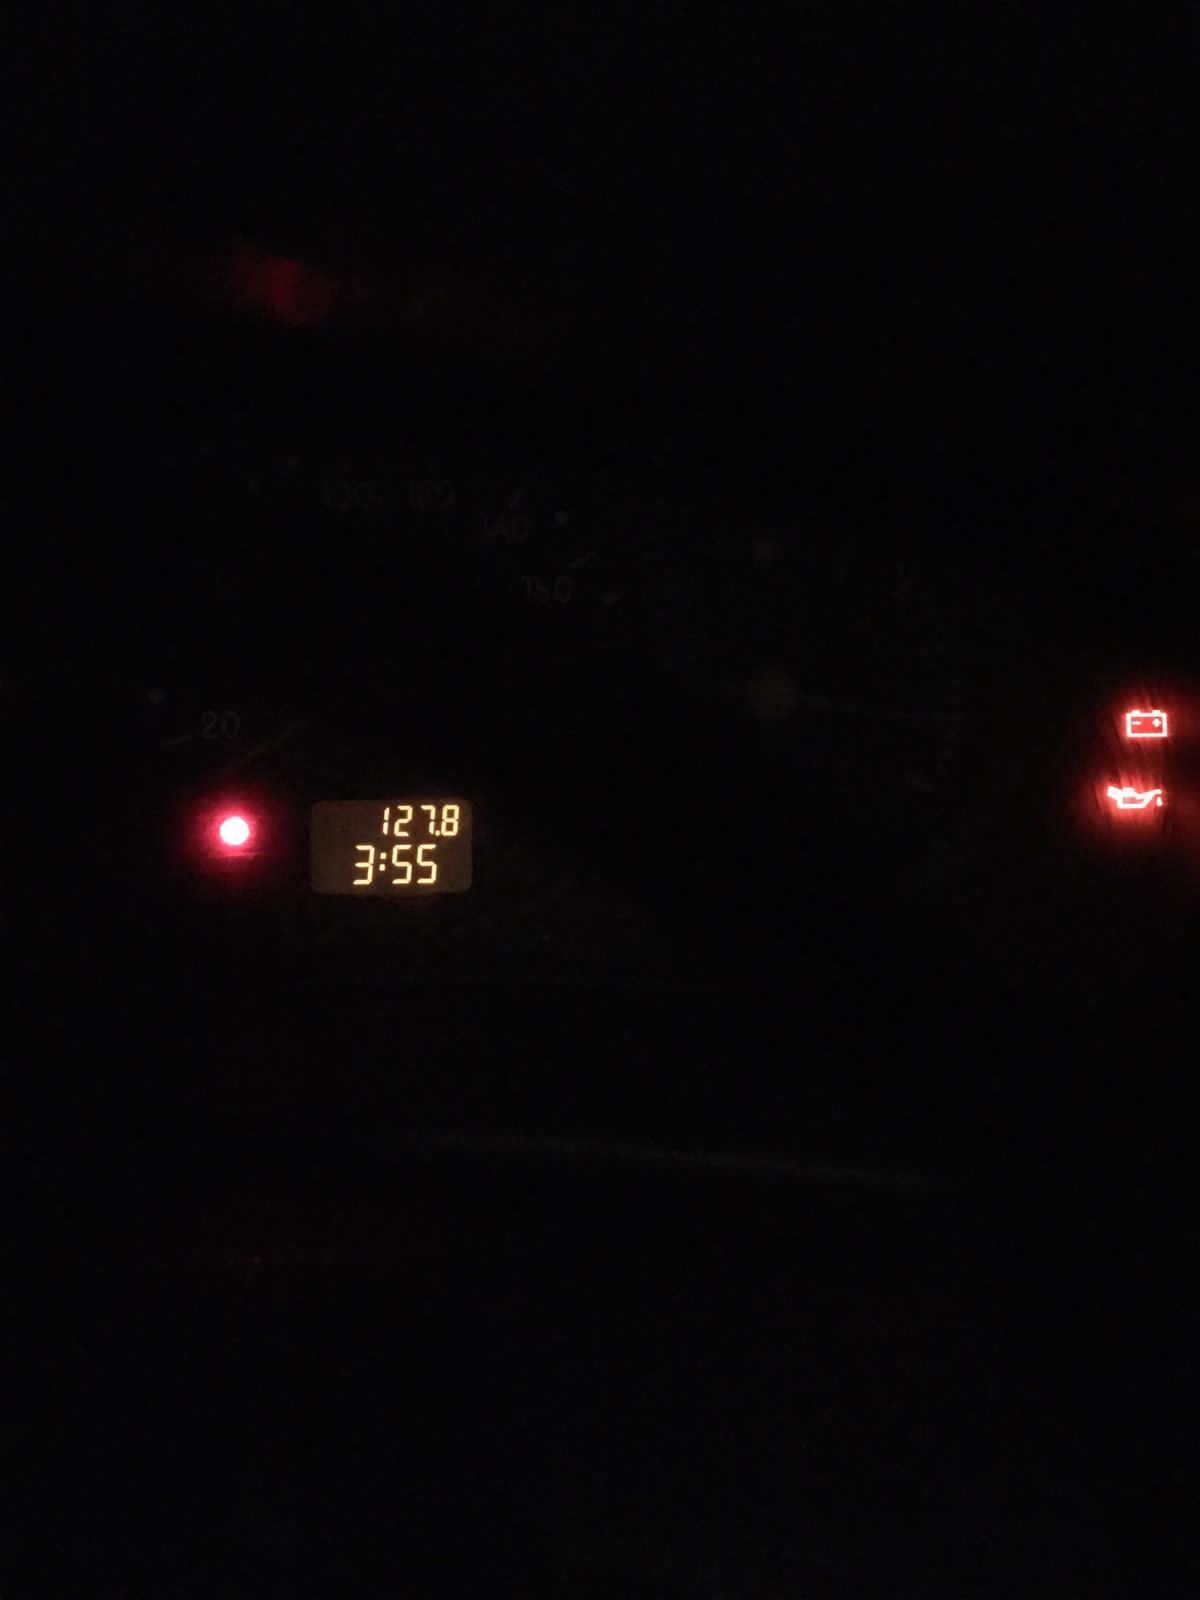,: (434, 829, 441, 837)
1: (381, 806, 391, 837)
2: (392, 804, 413, 838)
3: (350, 843, 376, 886)
5: (415, 842, 439, 886), (389, 843, 413, 884)
7: (418, 803, 436, 837)
8: (440, 803, 460, 838)
X: (378, 850, 387, 873)
odometer: (300, 790, 479, 902)
